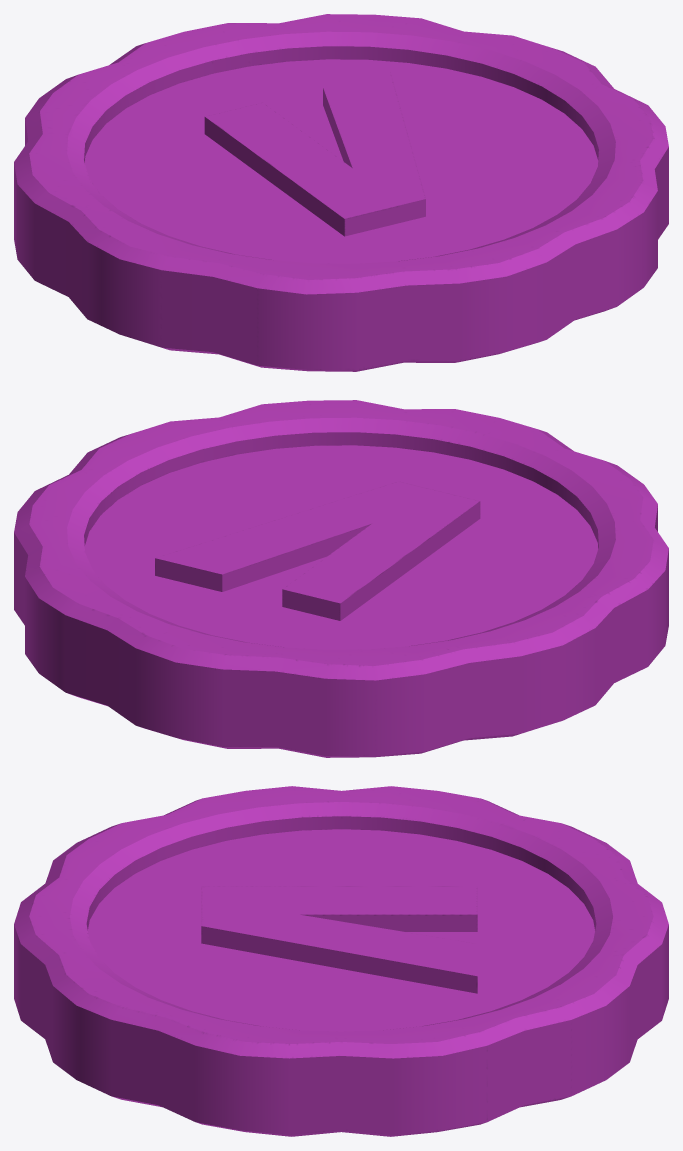
File: Coin.glb
The picture shows the model from 3 angles, top to bottom: view 1: azimuth 30°, elevation 25°; view 2: azimuth 150°, elevation 25°; view 3: azimuth 270°, elevation 25°; orthographic projection.
Visible parts, largest first — view 1: node_id5; view 2: node_id5; view 3: node_id5.
Part boxes in pixels (x1,y1,x2,y2): node_id5: (14,14,668,371); node_id5: (14,400,668,757); node_id5: (14,786,668,1136).
Bounding box in the file's own units: 0.512 × 0.1218 × 0.5236.
1 material, 1 textured.
